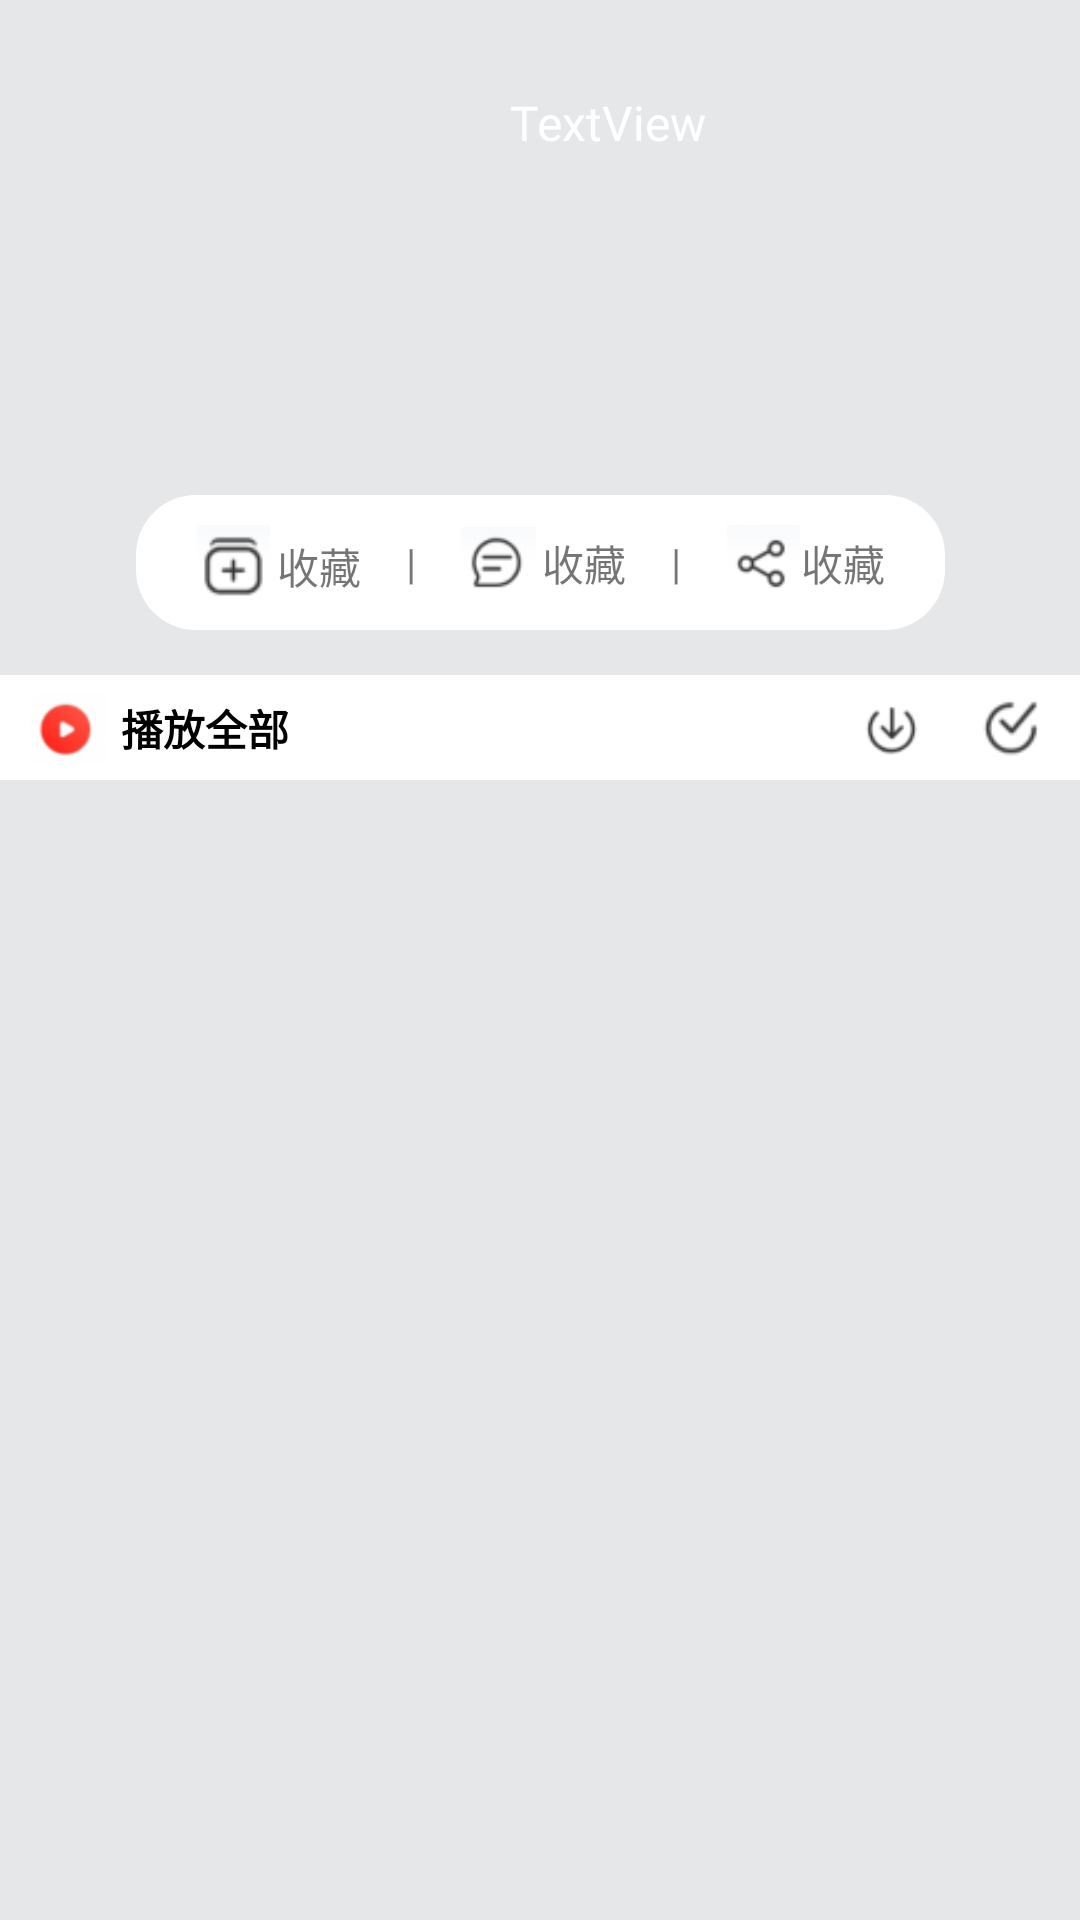

Named icons in this screenshot (1080w x 1920h) and their centers, (x=x, y=y):
playlist download: (x=892, y=730)
playlist say: (x=496, y=562)
playlist selectall: (x=1010, y=728)
playlist share: (x=761, y=563)
